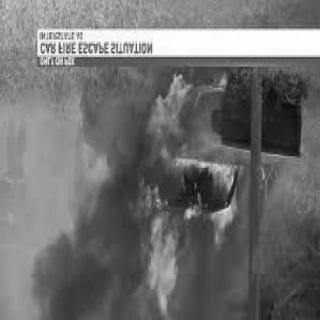Fire: (134, 76, 240, 312)
Smoke: (37, 102, 131, 318)
